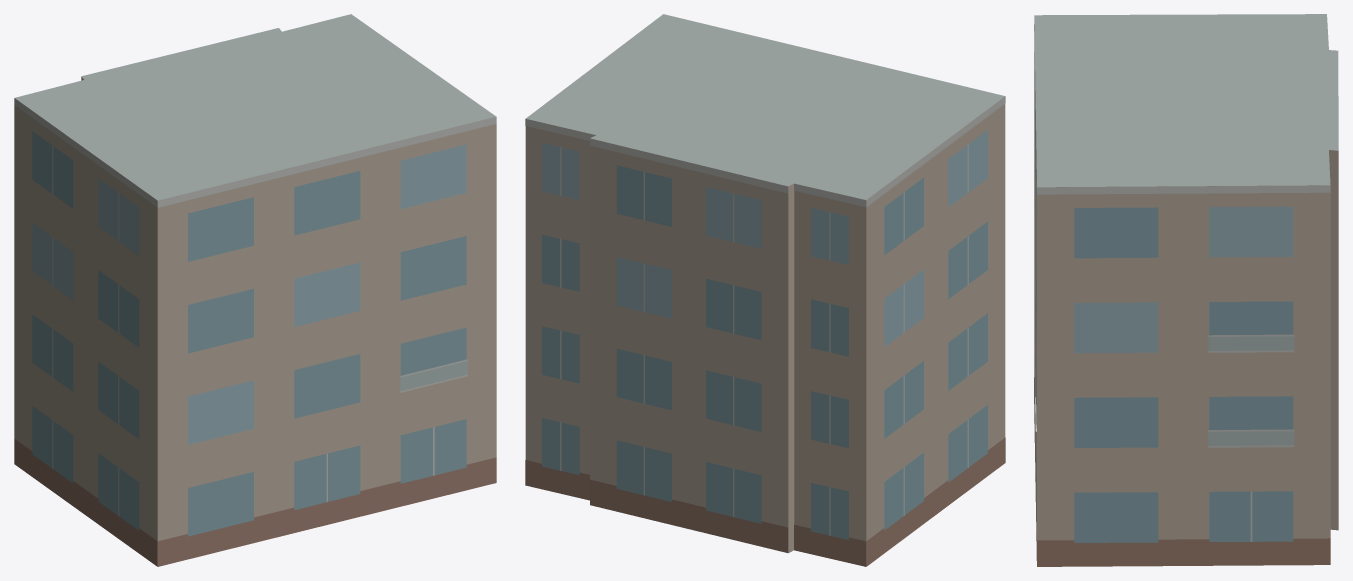
Rendered from survey-upis-32930171.glb.
The picture shows the model from 3 angles, left to right: view 1: azimuth 30°, elevation 25°; view 2: azimuth 150°, elevation 25°; view 3: azimuth 270°, elevation 25°; orthographic projection. The views are drawn at different scales.
Visible parts, largest first — view 1: survey-upis-32930171.tmp; view 2: survey-upis-32930171.tmp; view 3: survey-upis-32930171.tmp.
Boxes of the visible parts, <box> form: survey-upis-32930171.tmp: <box>14,14,496,566</box>; survey-upis-32930171.tmp: <box>525,14,1005,566</box>; survey-upis-32930171.tmp: <box>1034,14,1338,566</box>.
Size of the model in its own units: 12.29 by 12.55 by 9.14.
